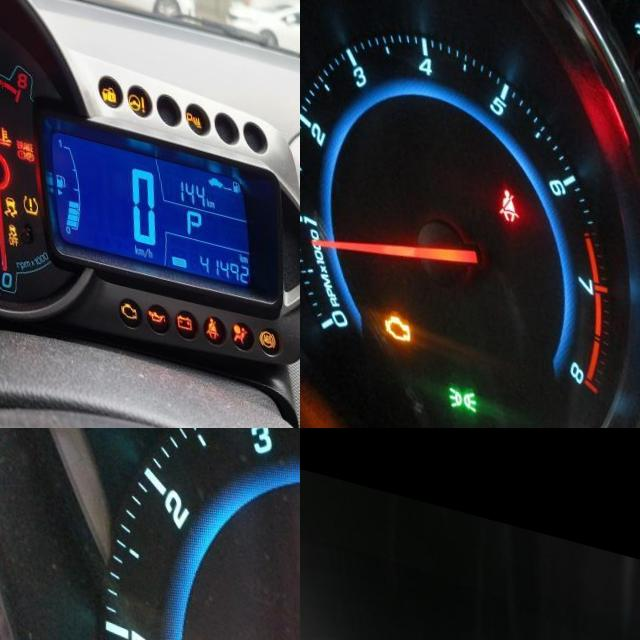SideLamp: (437, 369, 466, 398)
